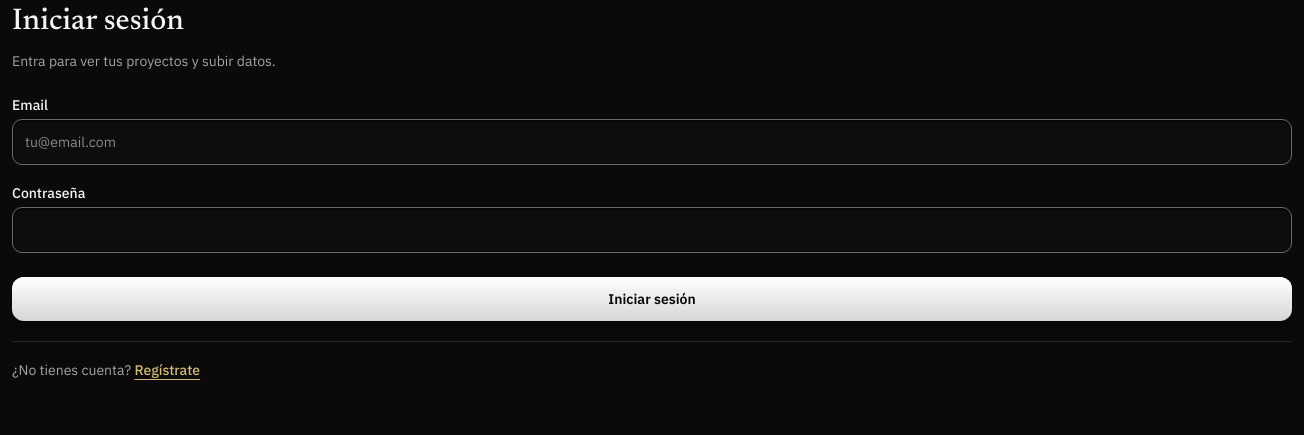
/login › announces a failed login as an alert
Type "ana@example.com" into the field labelled "Email" at (652, 142), box [12,119,1292,165]
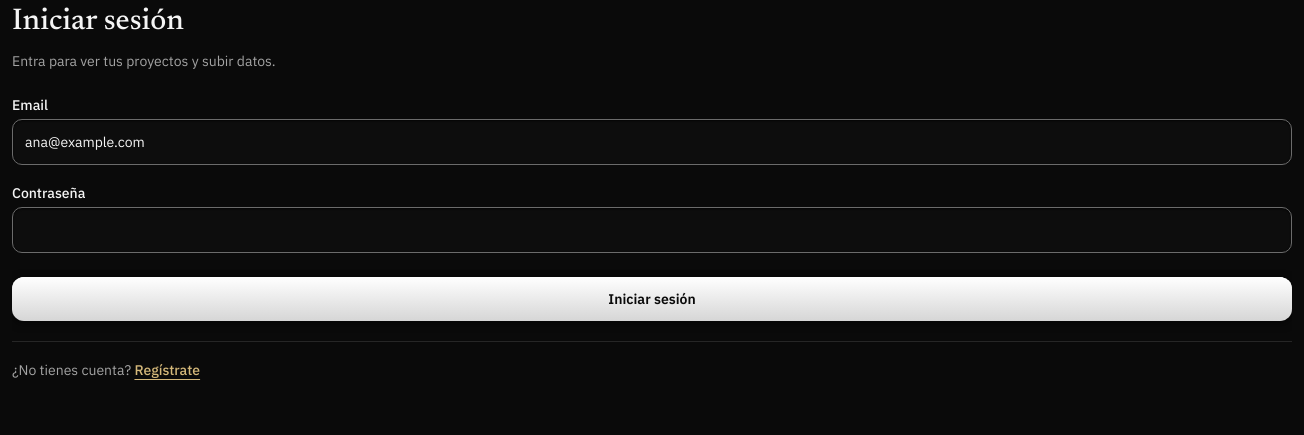
Type "secreta123" into the password field labelled "Contraseña" at (652, 230), box [12,207,1292,253]
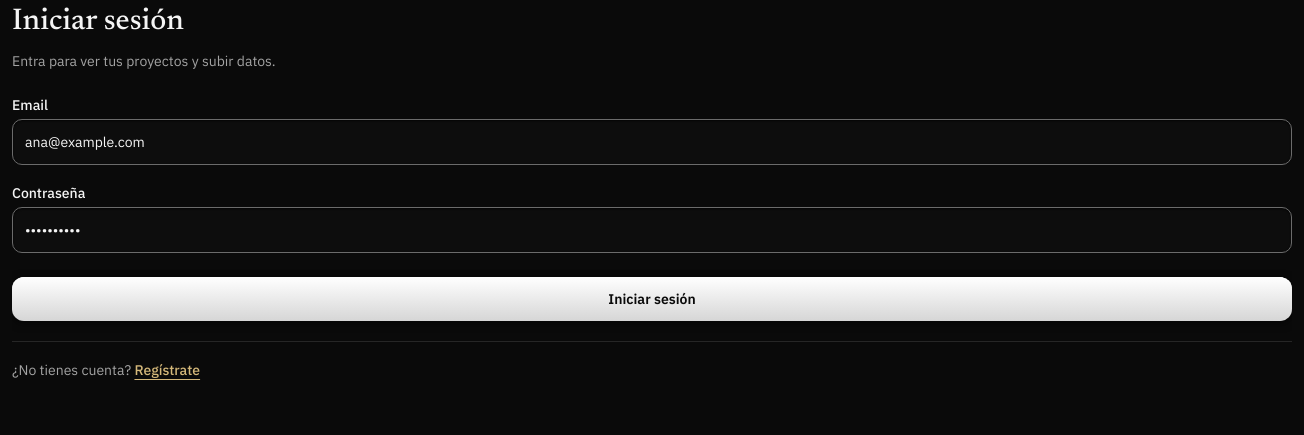
Click the button "Iniciar sesión" at (652, 299), box [12,277,1292,321]
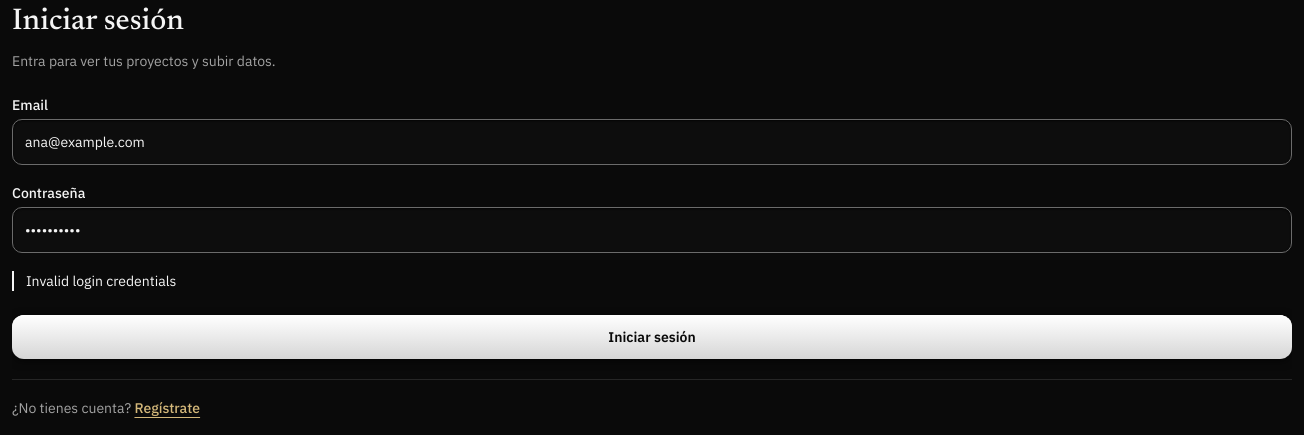
Now the message reads "Invalid login credentials", box [26,272,176,290]
